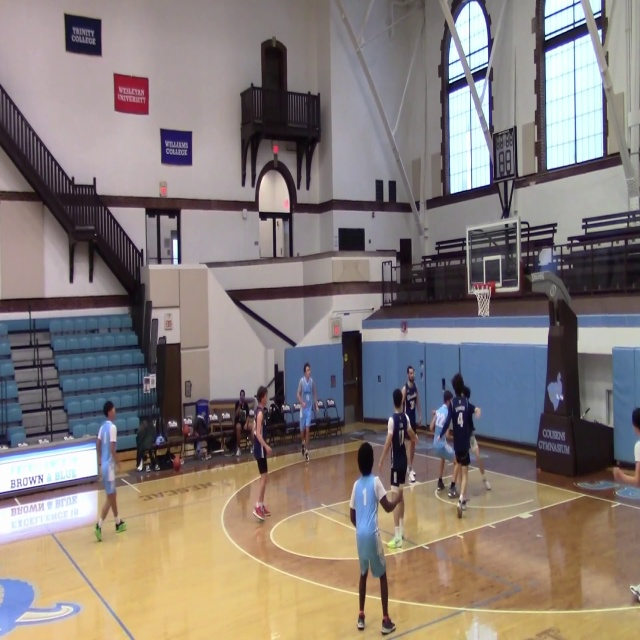Basketball: (173, 457, 181, 470), (182, 425, 190, 435), (272, 144, 279, 154)
